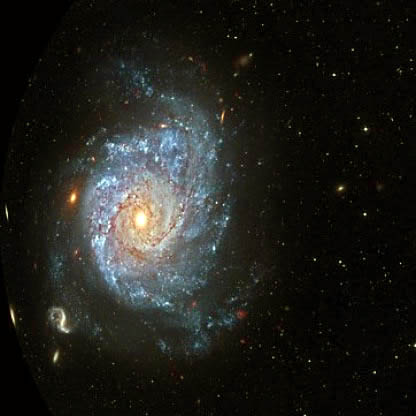NGC 1309: (40, 35, 280, 371)
